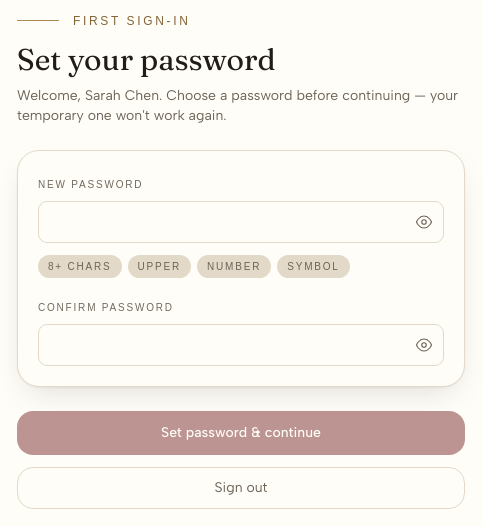
Scenario: FirstLoginPassword › keeps submit disabled until the policy is satisfied and the confirmation matches
expect the button "Set password & continue" is disabled: met, box [17,410,465,454]
# Weak password → still disabled.
In the password field labelled "New password": (241, 222) [38,200,444,242], type "short"
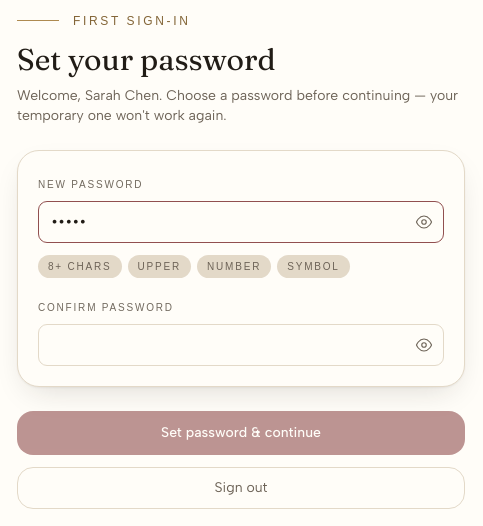
expect the button "Set password & continue" is disabled: met, box [17,410,465,454]
# Strong password but no confirmation → disabled.
In the password field labelled "New password": (241, 222) [38,200,444,242], type "Str0ng!pass"
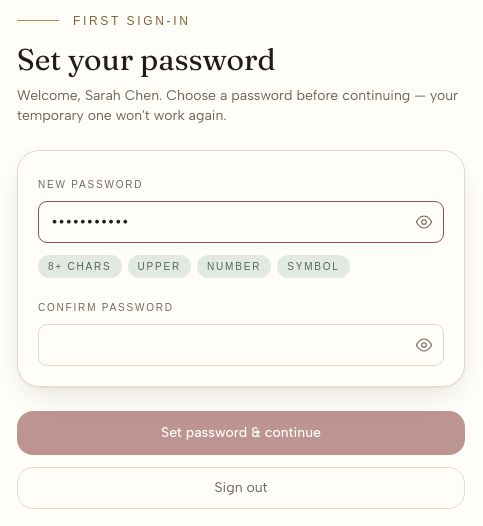
expect the button "Set password & continue" is disabled: met, box [17,410,465,454]
# Matching confirmation → enabled.
In the password field labelled "Confirm password": (241, 344) [38,324,444,366], type "Str0ng!pass"
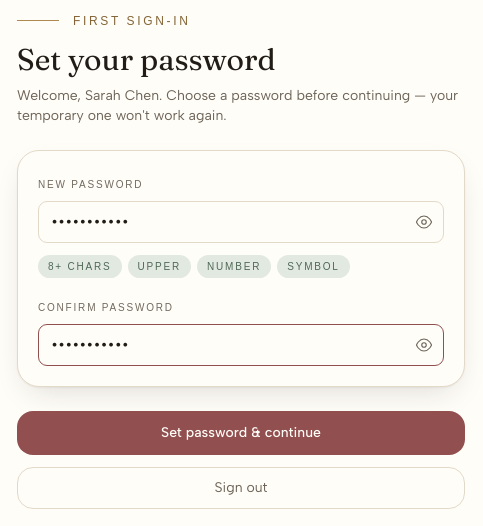
expect the button "Set password & continue" is enabled: met, box [17,410,465,454]
